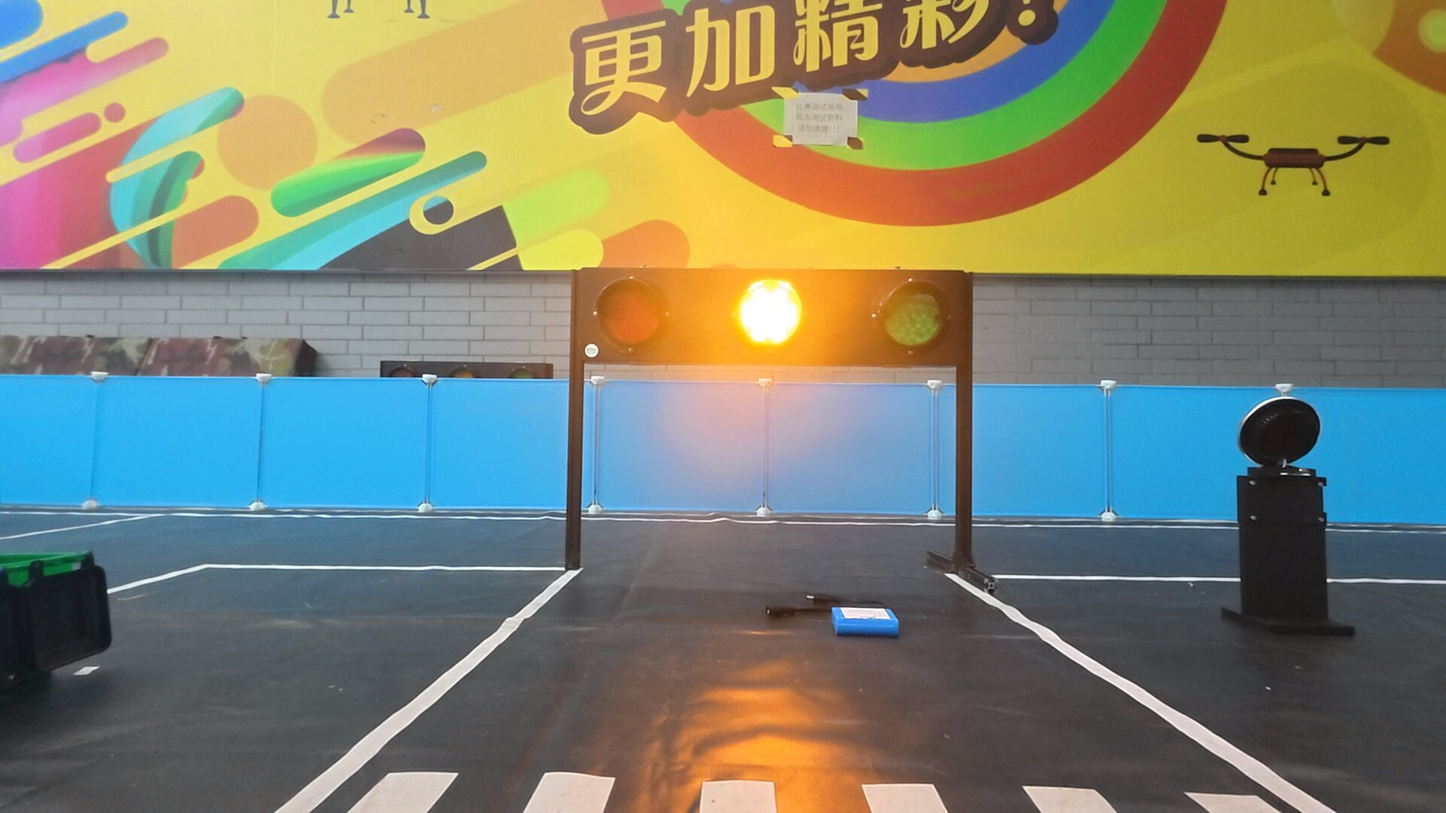stop: (732, 275, 806, 348)
